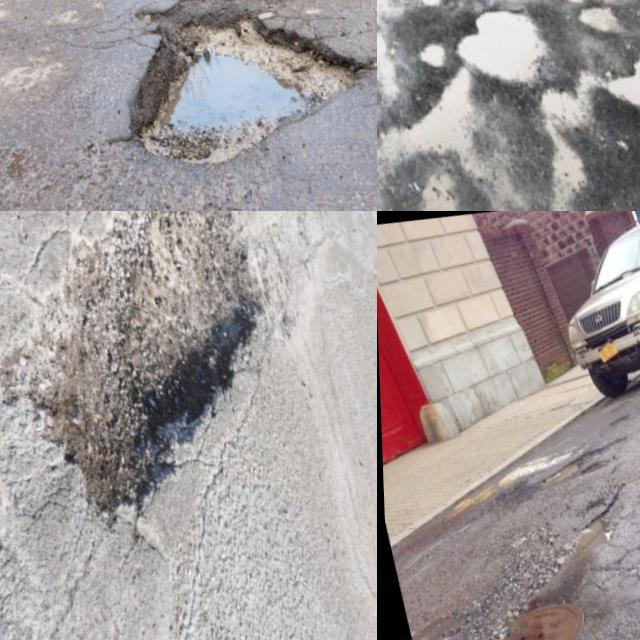Potholes: (0, 211, 338, 529), (69, 0, 377, 211), (377, 0, 532, 211), (476, 60, 640, 211), (555, 383, 640, 640), (436, 412, 595, 544), (390, 0, 575, 106), (417, 555, 620, 640), (570, 0, 640, 202), (407, 193, 611, 211)
